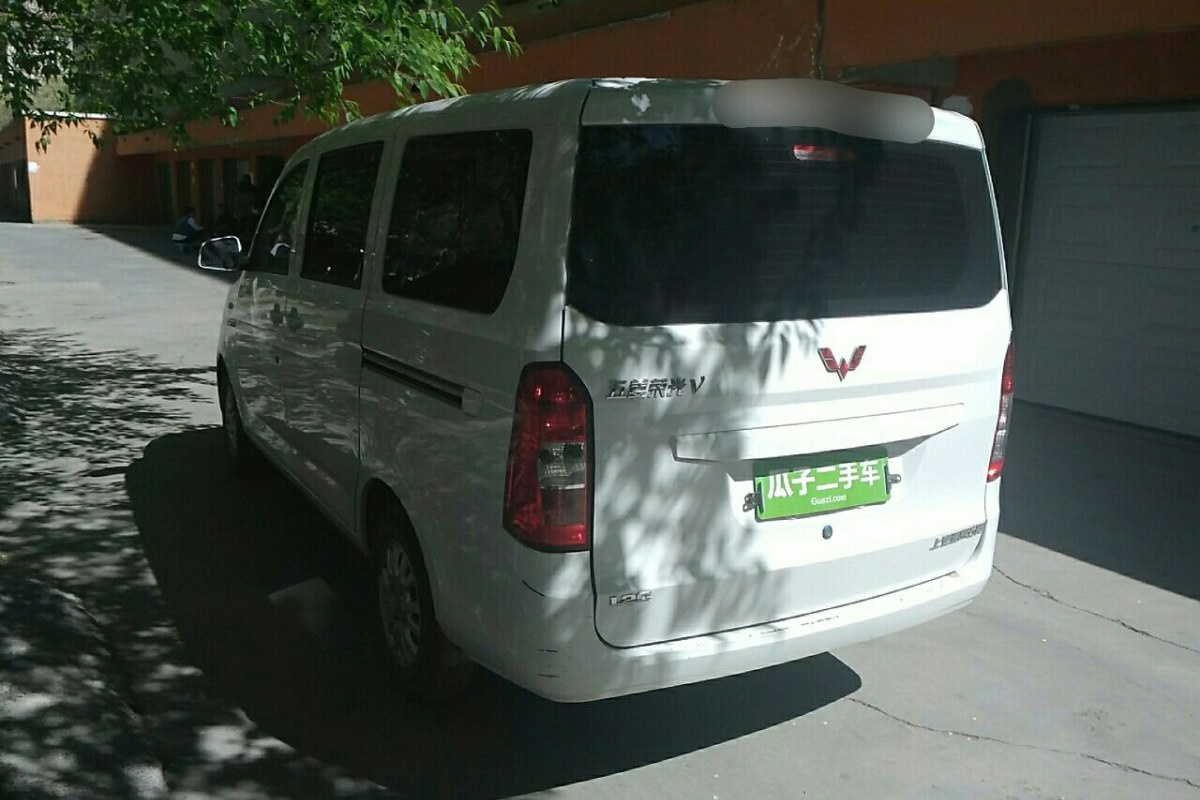minibus: (204, 82, 1022, 710)
